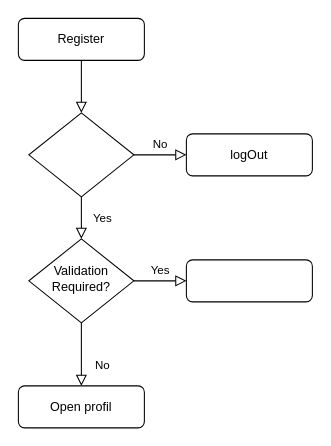
This 331x446 diagram has some shape labels left out. Here are the shapes that lost their labels. From the top down, the box of each, then its label:
(28, 112, 134, 197): Success
(185, 259, 312, 302): SendMail validation
